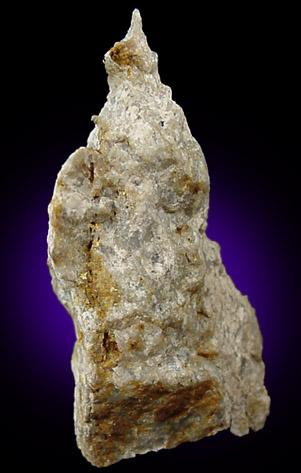gold: (81, 340, 222, 466), (48, 148, 122, 319), (107, 36, 158, 74)
